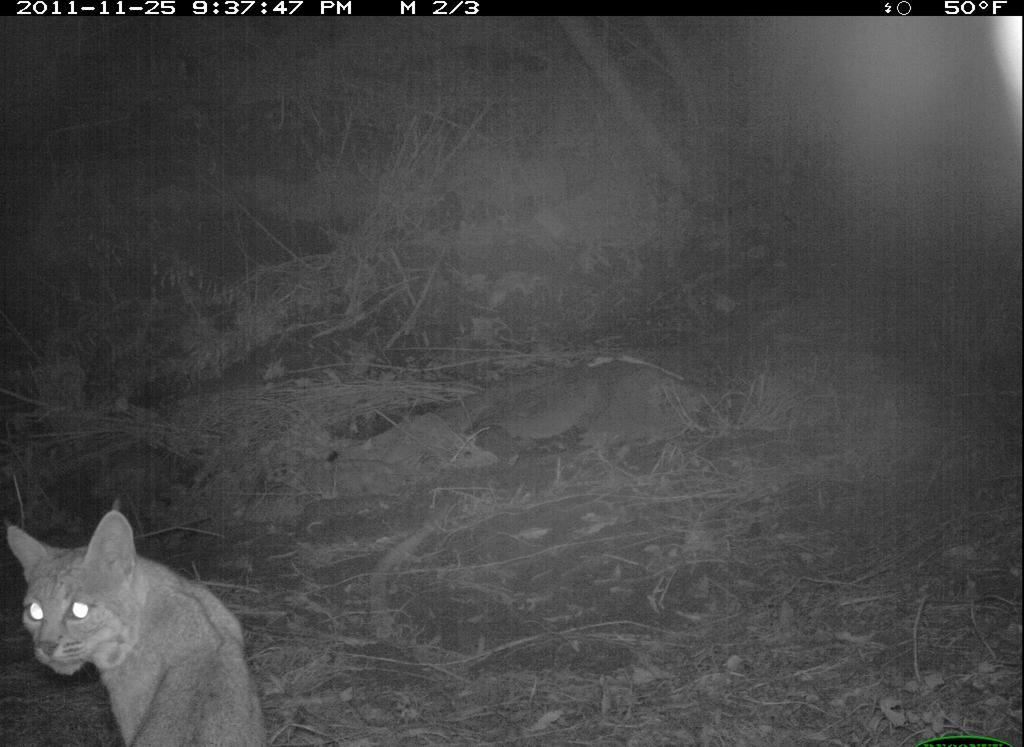bobcat: (12, 511, 274, 747)
